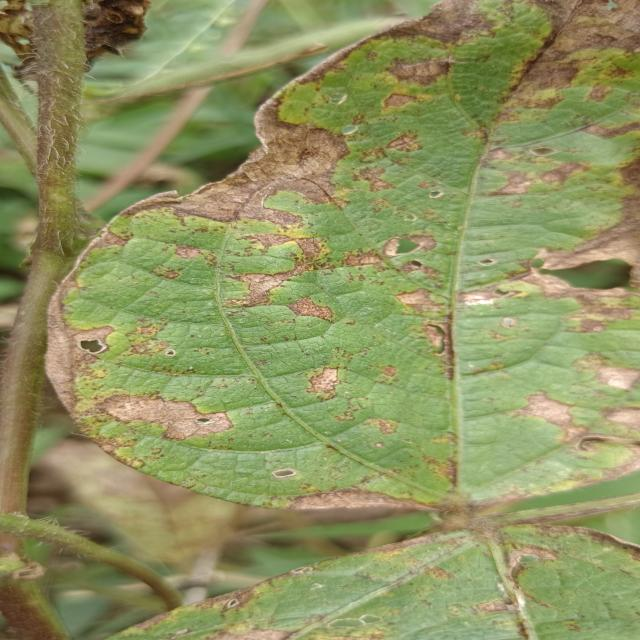Black gram_leaf spot: (28, 0, 640, 514), (105, 526, 640, 640)
